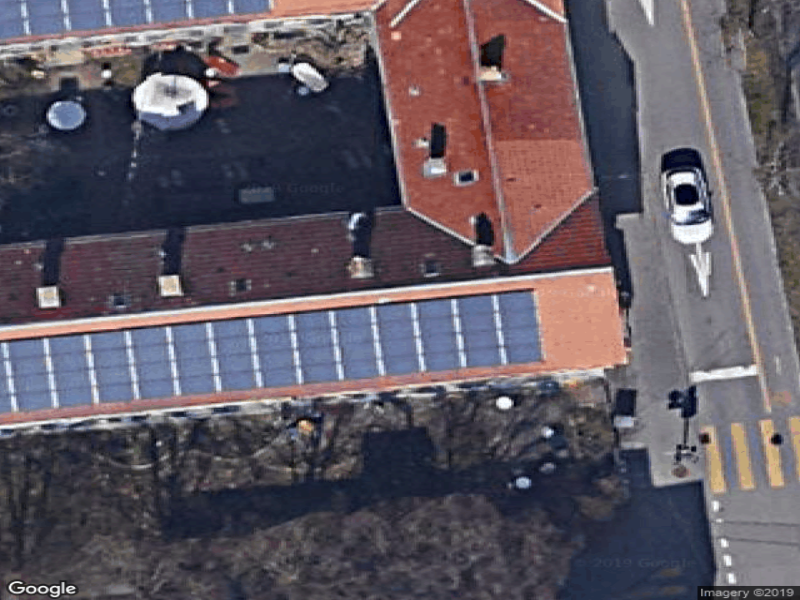pv: (1, 290, 548, 414), (3, 1, 270, 41)
